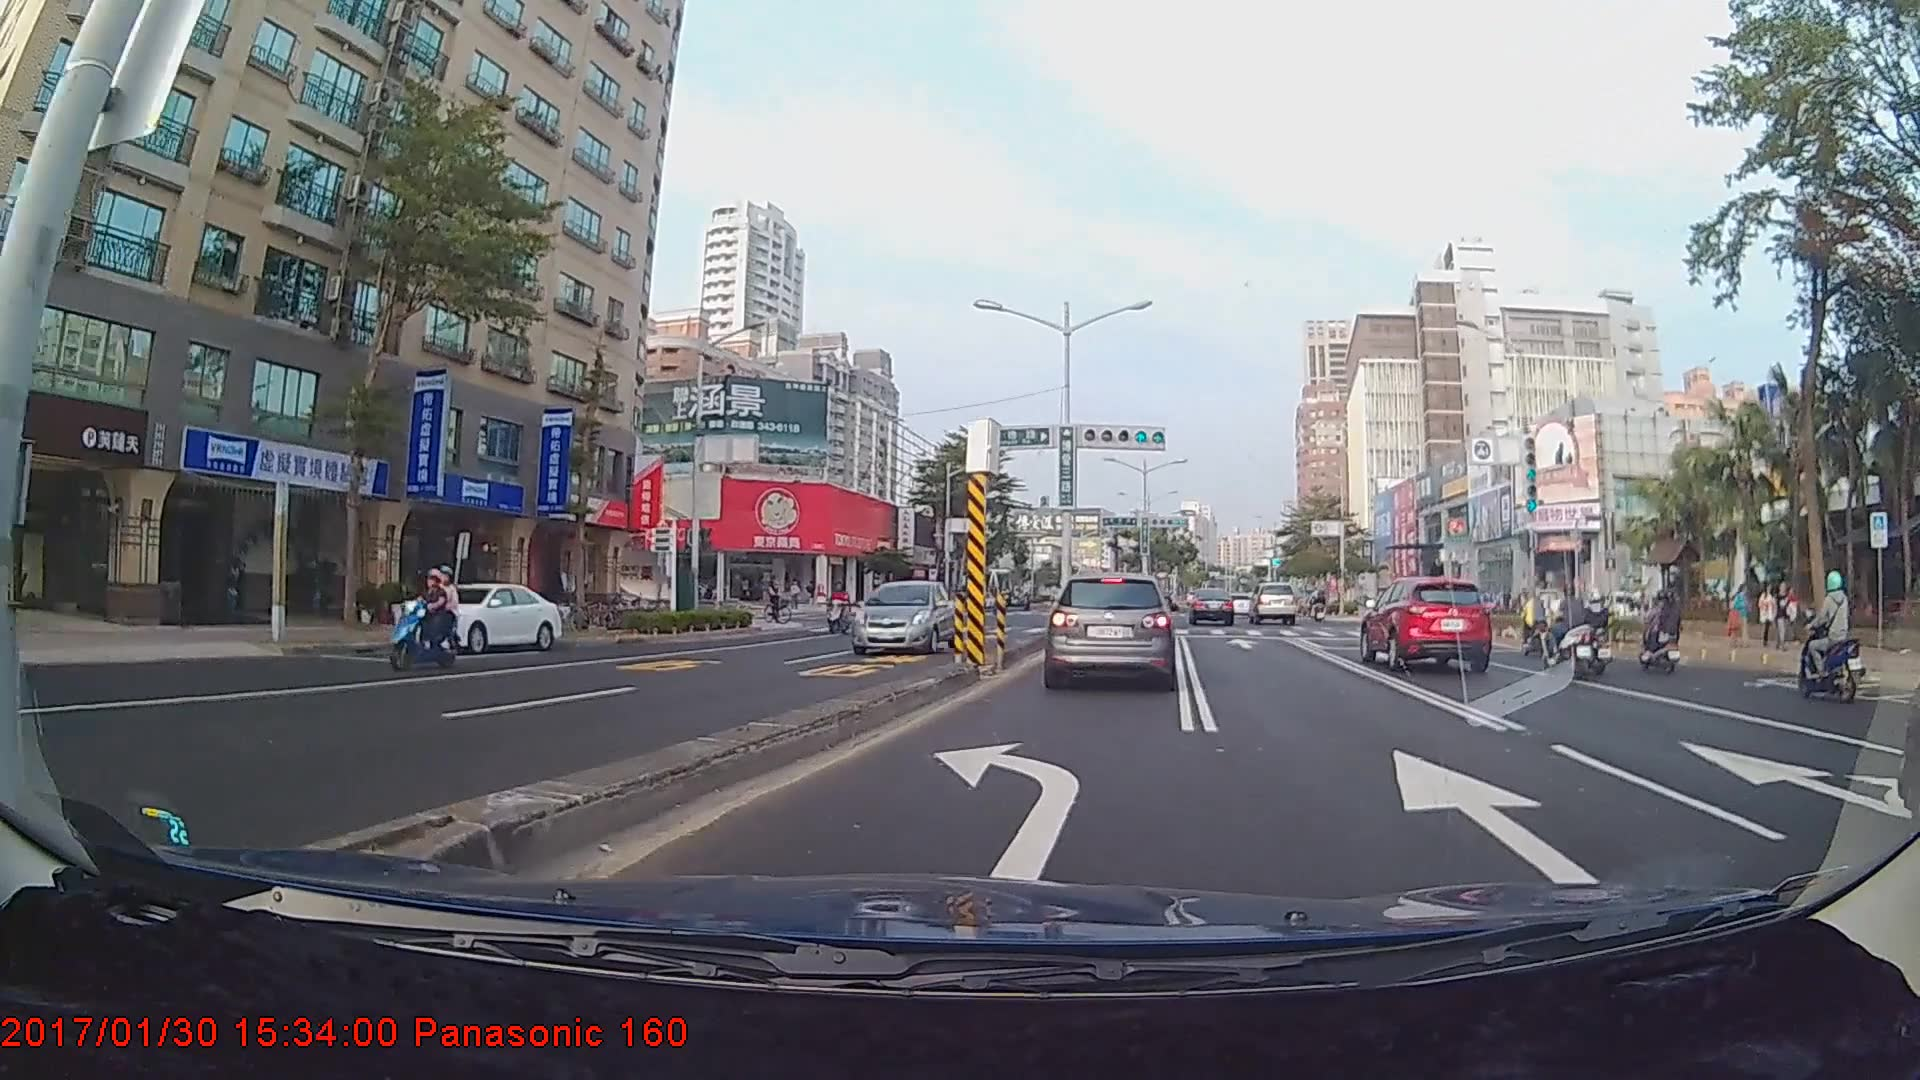pedestrian: (1726, 580, 1752, 651), (1777, 579, 1797, 647), (1759, 582, 1779, 645)
rider: (1800, 570, 1875, 701), (385, 566, 469, 678), (1540, 576, 1606, 675), (1634, 586, 1686, 673), (822, 574, 856, 638), (765, 576, 795, 629)
vehicle: (1044, 570, 1173, 691), (1359, 571, 1499, 673), (389, 580, 563, 654), (849, 577, 960, 652), (1248, 582, 1298, 625), (1186, 587, 1236, 627)
